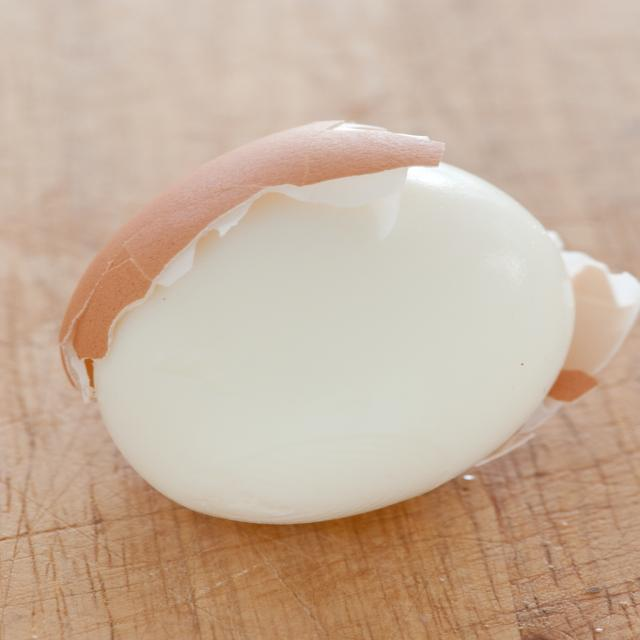Egg: (49, 106, 630, 527)
